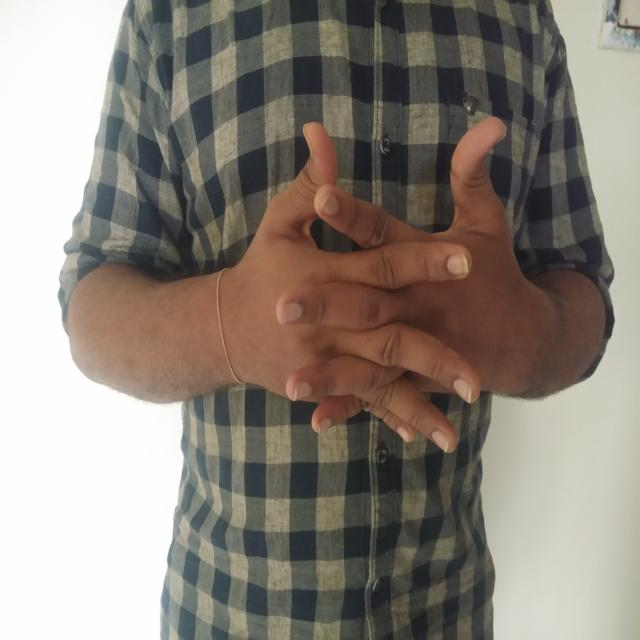W: (251, 102, 518, 464)
